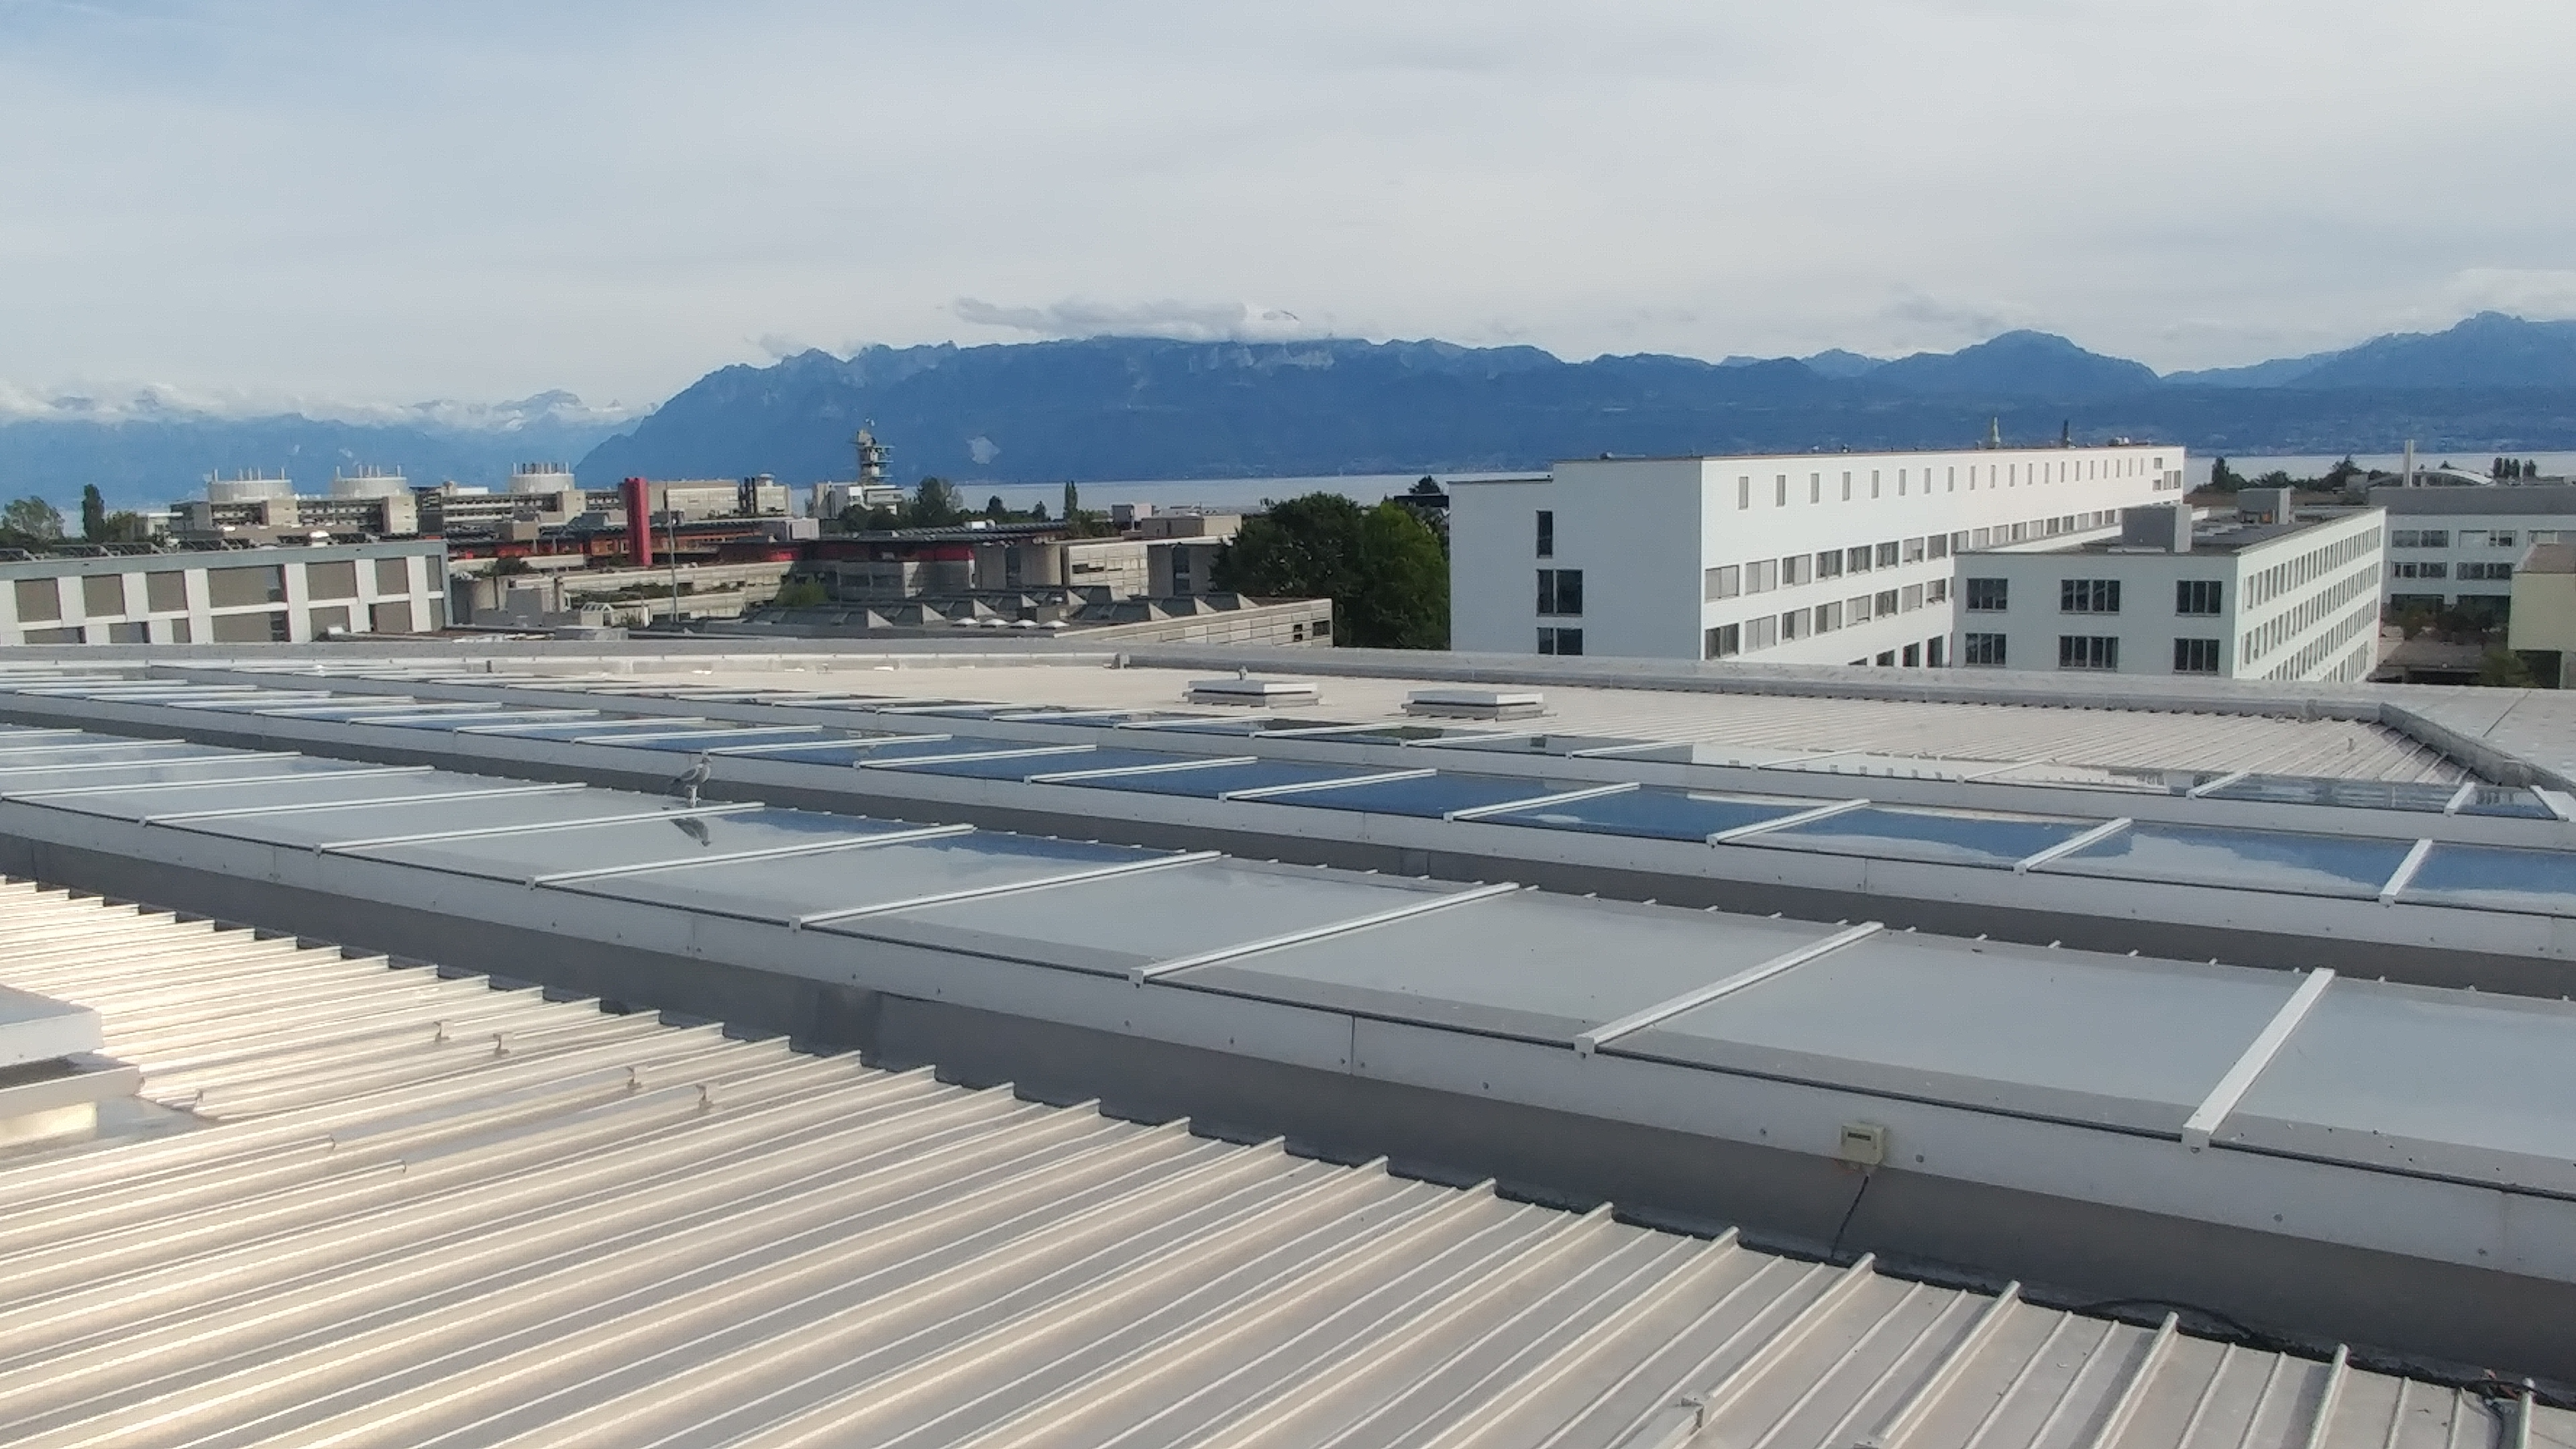Pigeon: (663, 750, 711, 810)
